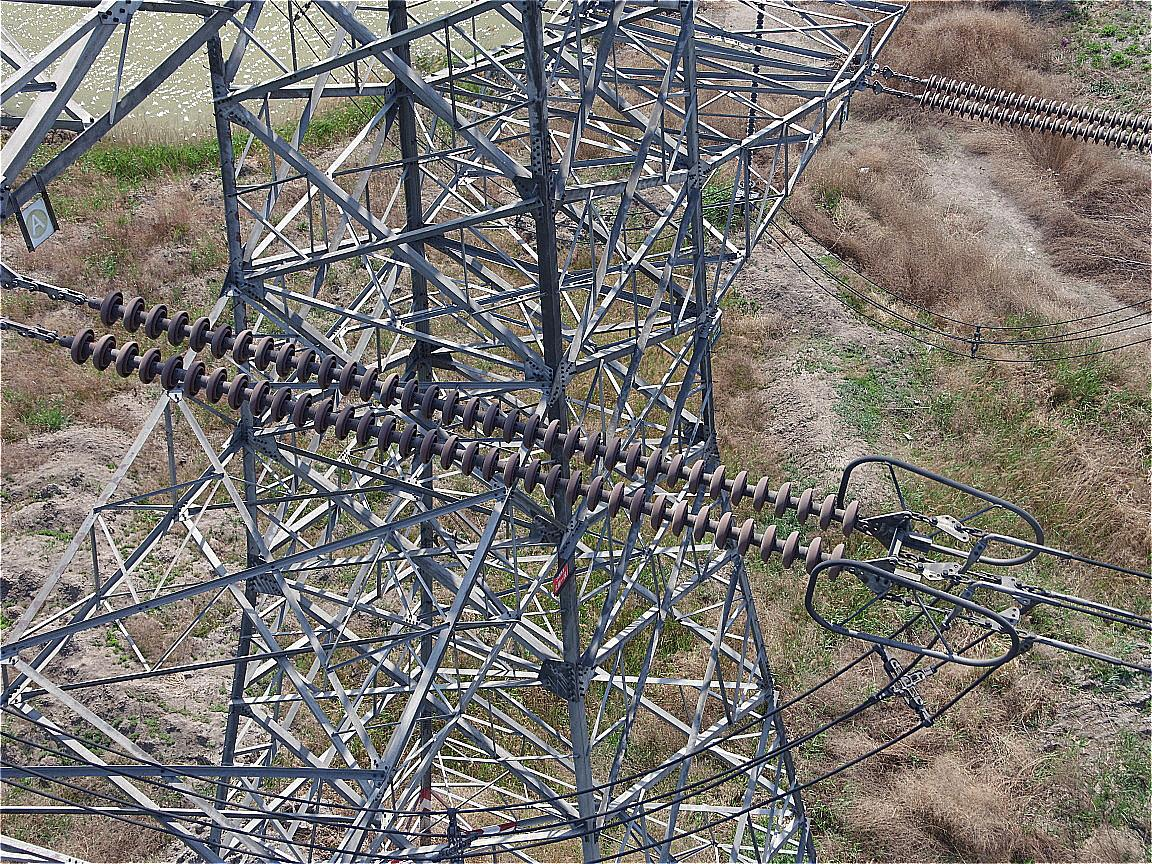insultor1: (70, 289, 860, 580)
insultor2: (922, 72, 1149, 154)
